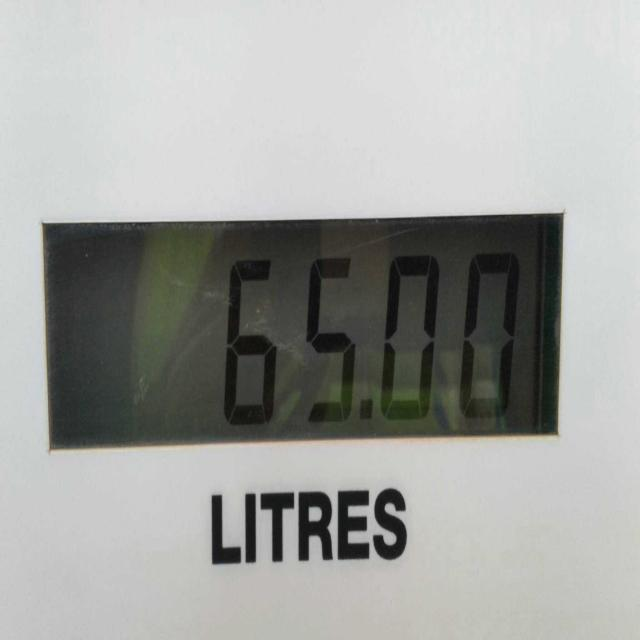.: (354, 388, 377, 440)
0: (372, 248, 457, 430), (448, 246, 526, 439)
5: (296, 252, 360, 434)
6: (212, 253, 289, 430)
